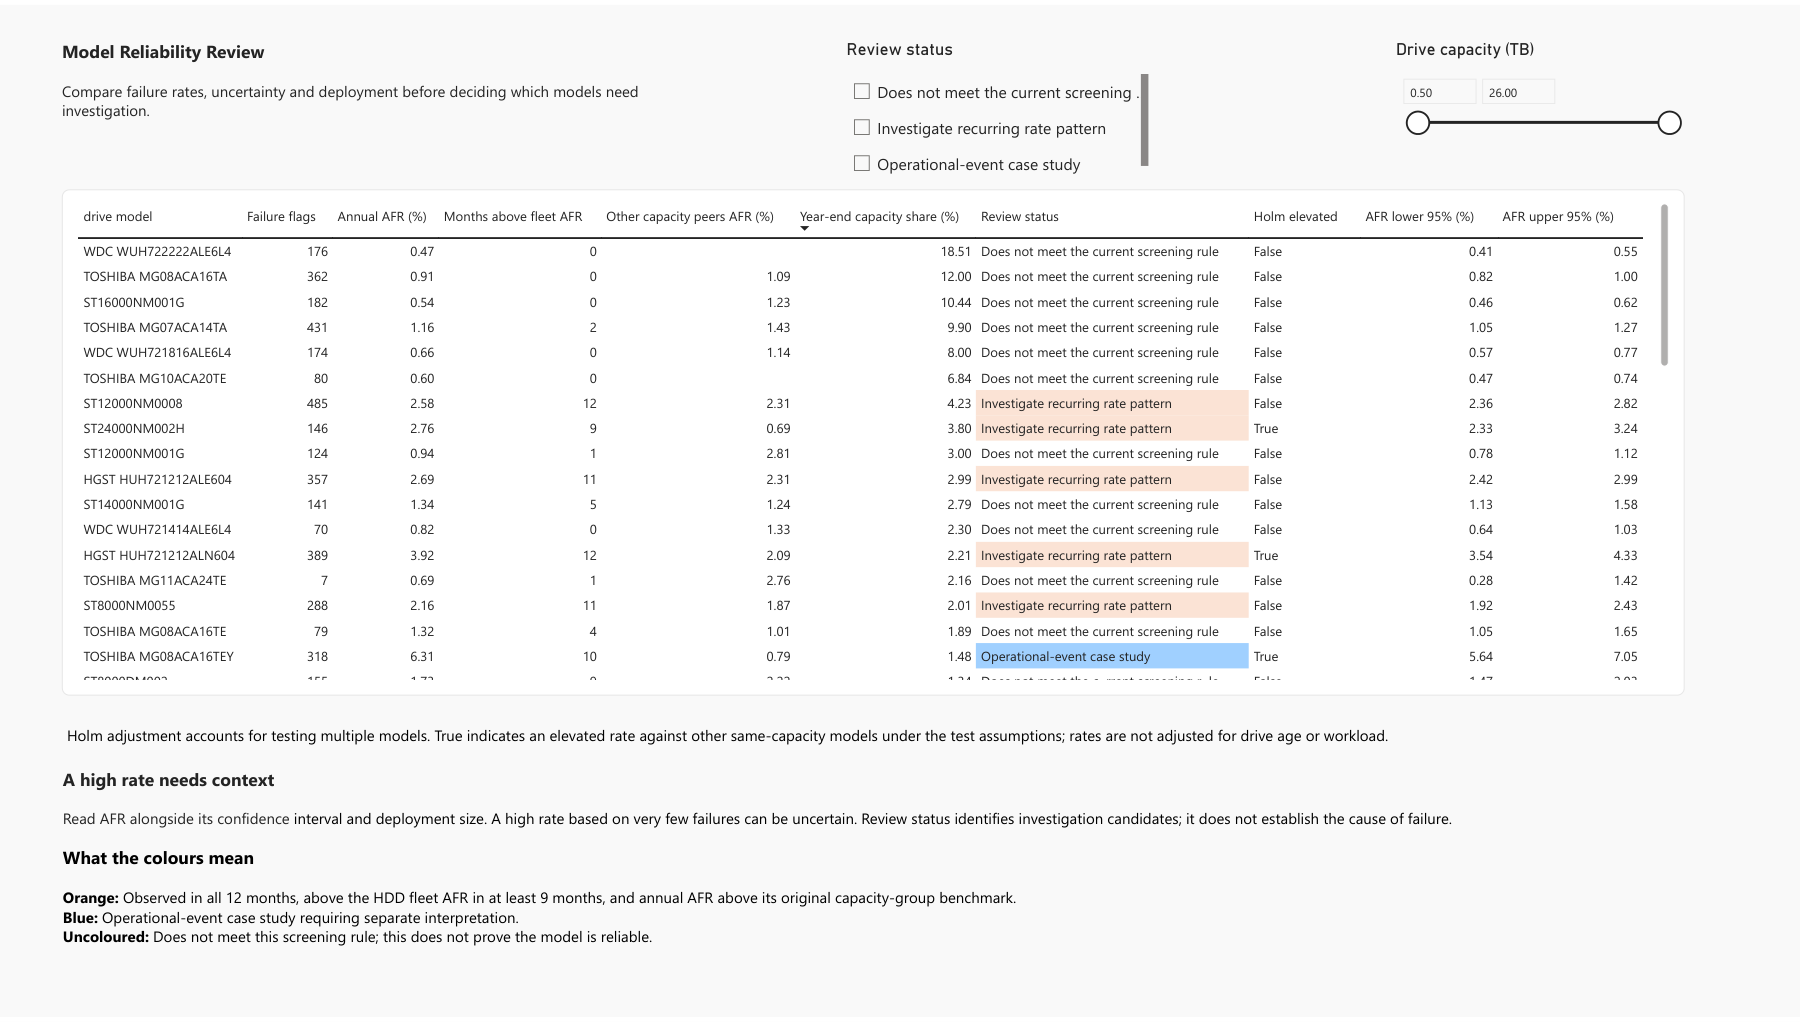

The page's visual inventory and layout, read from the dashboard file:
{"tool":"powerbi","page":{"name":"Model Review","canvas":[1920,1080],"ordinal":1},"visuals":[{"type":"tableEx","fields":{"Values":["review_with_additional_evidence.model","Sum(review_with_additional_evidence.annual_failure_flags)","Sum(review_with_additional_evidence.afr_percent)","Sum(review_with_additional_evidence.months_above_hdd_rate)","Sum(review_with_additional_evidence.peer_afr_percent)","Sum(review_with_additional_evidence.capacity_share_percent)","review_with_additional_evidence.review_status","review_with_additional_evidence.elevated_after_holm","Sum(review_with_additional_evidence.lower_95_percent)","Sum(review_with_additional_evidence.upper_95_percent)"]},"box":[66.1,196.8,1730.6,540.3],"z":0},{"type":"textbox","box":[66.2,36.8,680.9,108.8],"z":1000},{"type":"slicer","title":"Review status","fields":{"Values":["review_with_additional_evidence.review_status"]},"box":[903.2,37.1,322.2,146.8],"z":2000},{"type":"slicer","title":"Drive capacity (TB)","fields":{"Values":["review_with_additional_evidence.capacity_tb"]},"box":[1488.7,37.1,308.1,130.6],"z":3000},{"type":"textbox","box":[66.7,812.7,1522.2,84.1],"z":4000},{"type":"textbox","box":[66.7,896.8,1717.5,166.7],"z":5000},{"type":"textbox","box":[66.7,768.3,1717.5,33.3],"z":6000}]}

Visuals, with their boxes in screenshot pixels (x1, y1, x2, y2), scaled from the page's 1920x1080 canvas onto the 1800x1022 screenshot:
tableEx - review_with_additional_evidence.model x Sum(review_with_additional_evidence.annual_failure_flags): 62,186,1684,698
textbox: 62,35,700,138
"Review status" slicer: 847,35,1149,174
"Drive capacity (TB)" slicer: 1396,35,1685,159
textbox: 63,769,1490,849
textbox: 63,849,1673,1006
textbox: 63,727,1673,759
